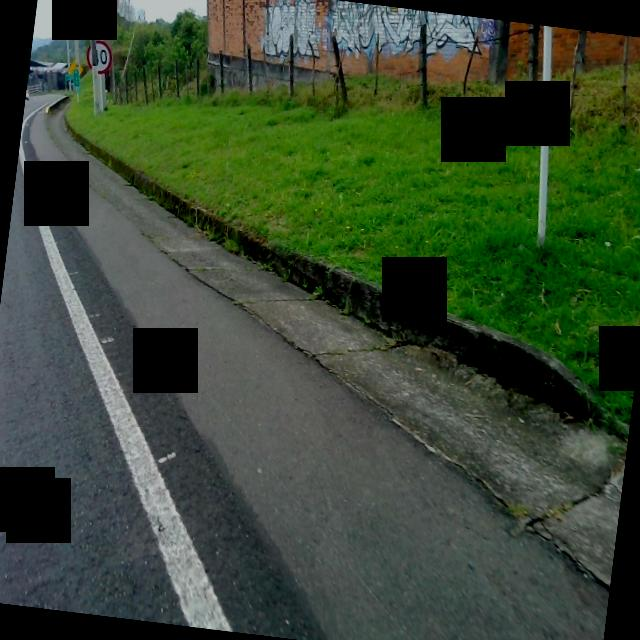DITCH: (0, 87, 640, 640), (42, 72, 640, 640)
